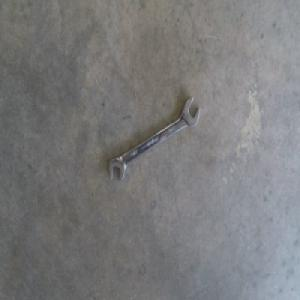Wrench: (109, 91, 199, 184)
